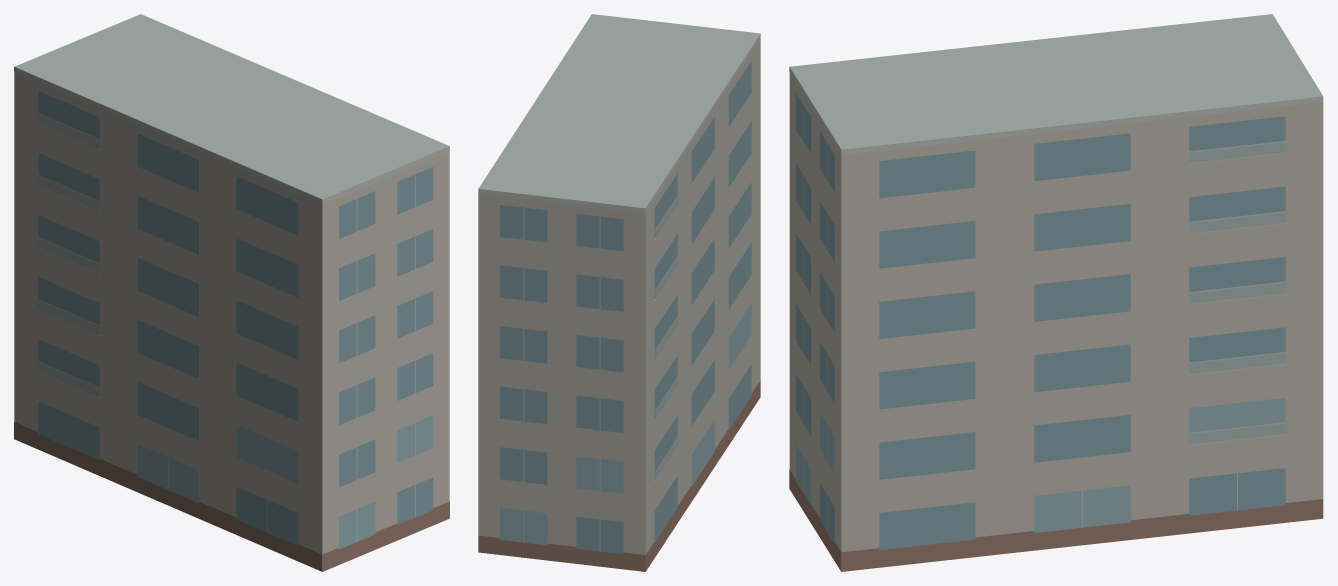
Rendered from survey-upis-32573978.glb.
3 views of the same model, side by side, from view 1: azimuth 30°, elevation 25°; view 2: azimuth 150°, elevation 25°; view 3: azimuth 270°, elevation 25° (orthographic). The views are drawn at different scales.
Parts seen in each view (by area): view 1: survey-upis-32573978.tmp; view 2: survey-upis-32573978.tmp; view 3: survey-upis-32573978.tmp.
Boxes of the visible parts, <box> form: survey-upis-32573978.tmp: <box>14,14,449,571</box>; survey-upis-32573978.tmp: <box>478,14,760,571</box>; survey-upis-32573978.tmp: <box>789,14,1323,571</box>.
Bounding box in the file's own units: 12.97 × 18.8 × 21.55.
